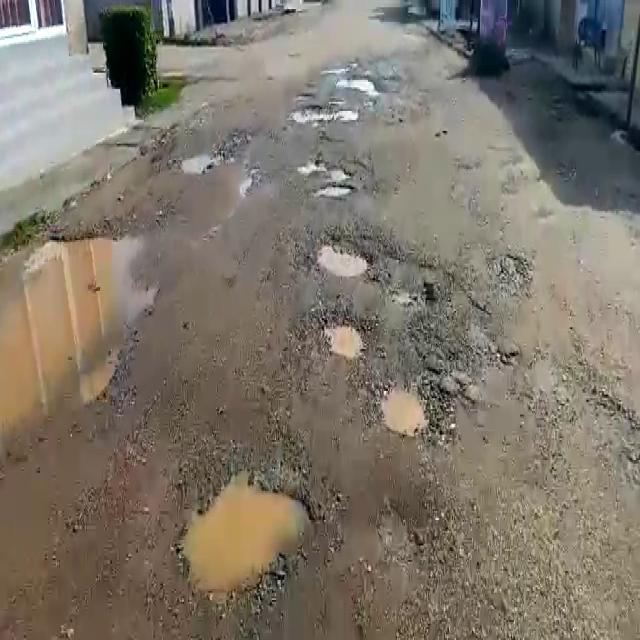Pothole: (179, 461, 318, 608), (373, 374, 443, 438), (311, 235, 371, 282), (321, 313, 373, 358), (288, 101, 359, 122), (312, 178, 358, 199), (180, 153, 218, 176)
